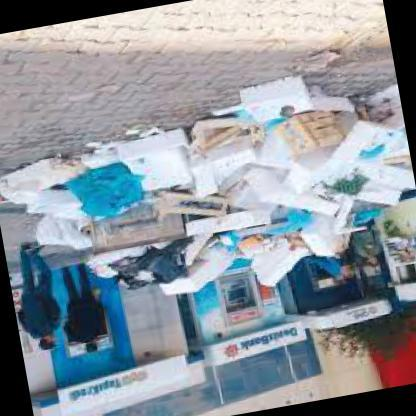Garbage: (175, 57, 413, 280), (63, 131, 151, 216), (98, 240, 196, 301), (137, 236, 188, 288), (100, 247, 153, 296), (342, 206, 387, 234), (209, 222, 242, 259), (262, 217, 310, 242), (352, 136, 397, 162)
